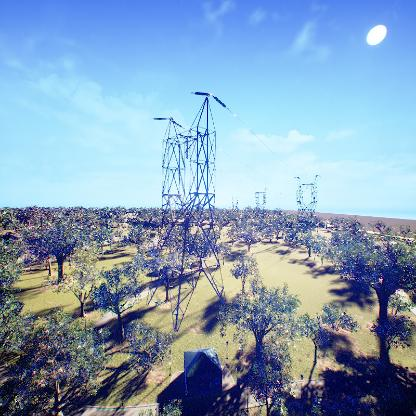tower: (148, 88, 228, 329), (292, 173, 321, 228)
